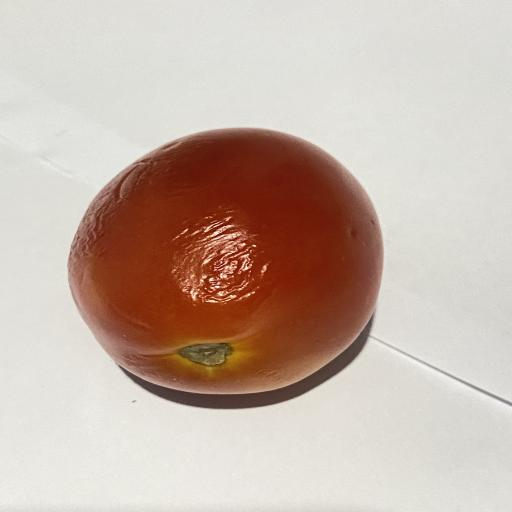spoiled: (68, 128, 383, 394)
